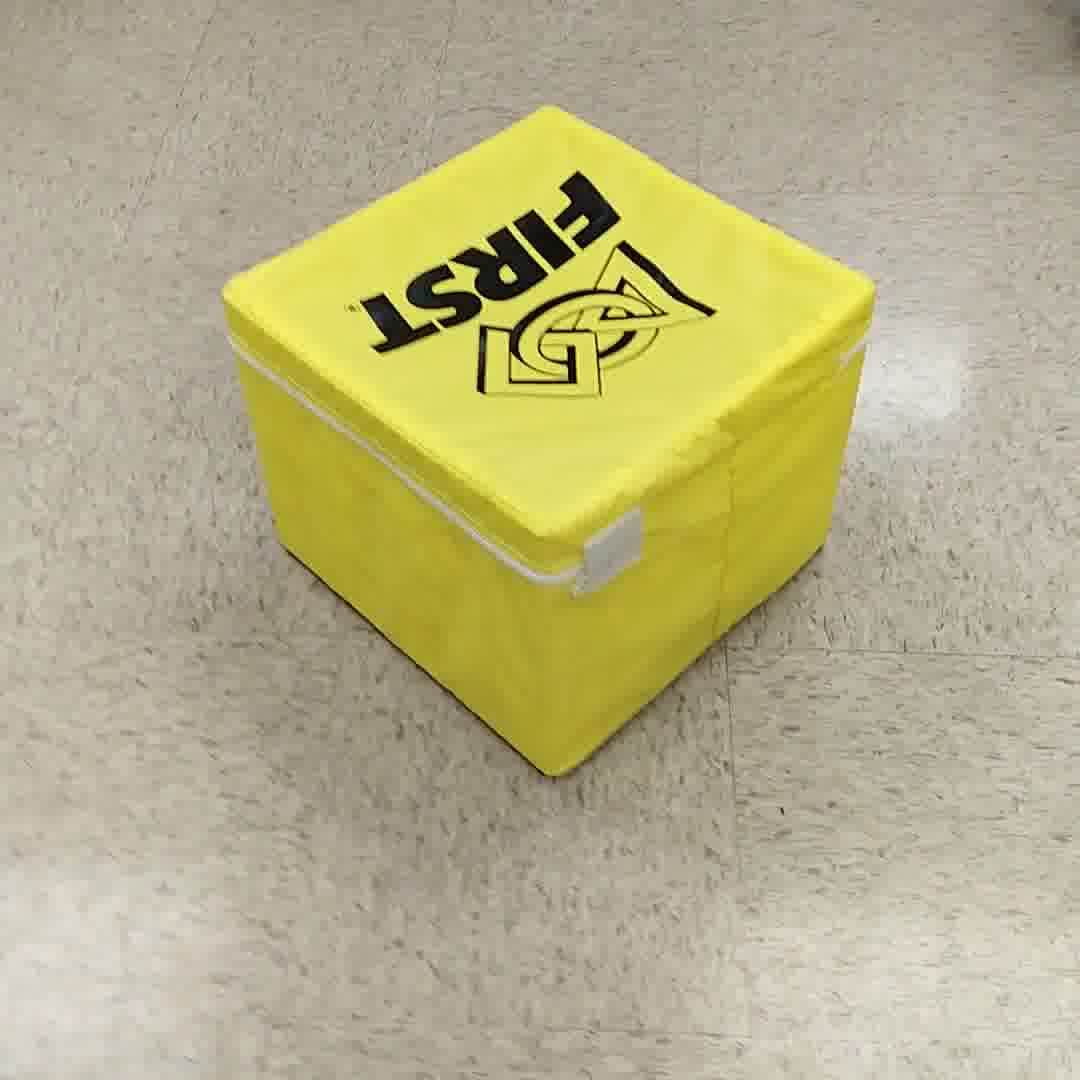box: (204, 75, 877, 791)
